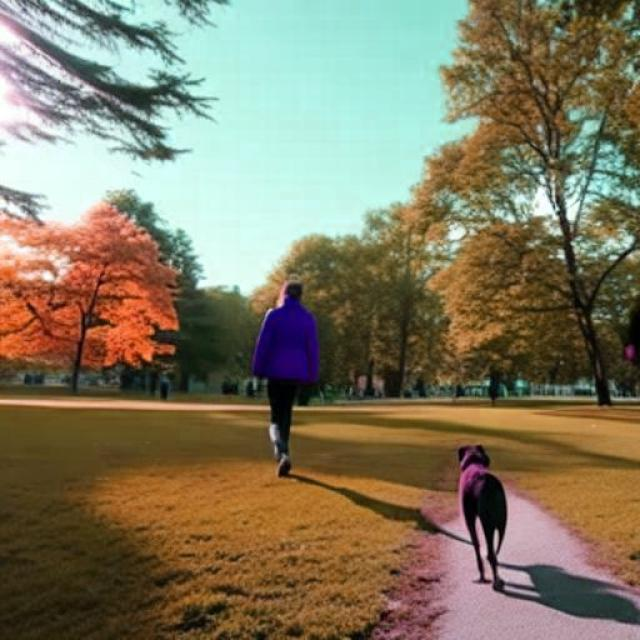Unleashed_Dog: (266, 379, 508, 592)
